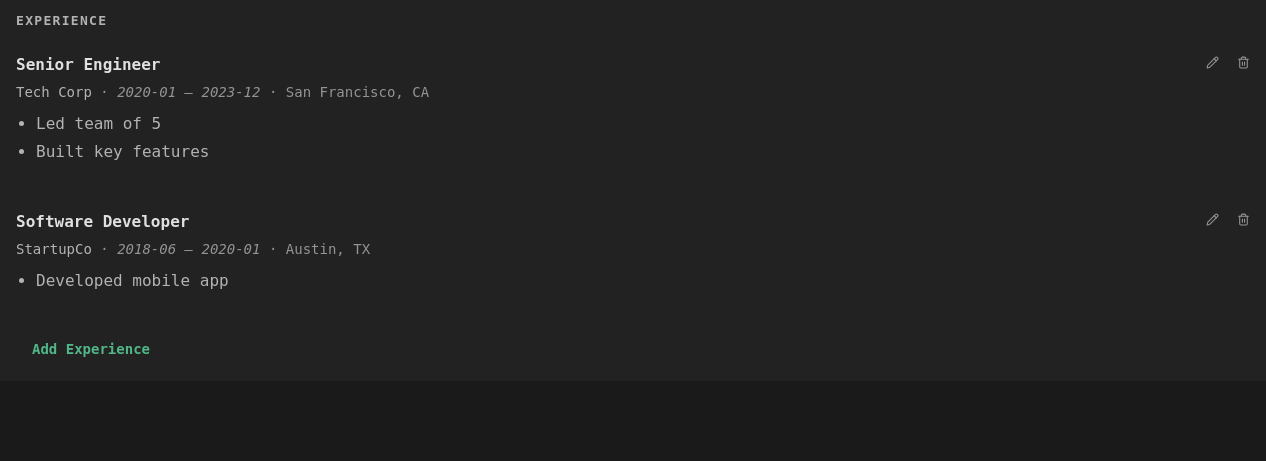
Test: ExperienceSection (edit/add/delete) › edit mode › shows entry form when edit button clicked
Click the button named "edit" in the row of "Senior Engineer": (1212, 62) [1200,52,1225,73]
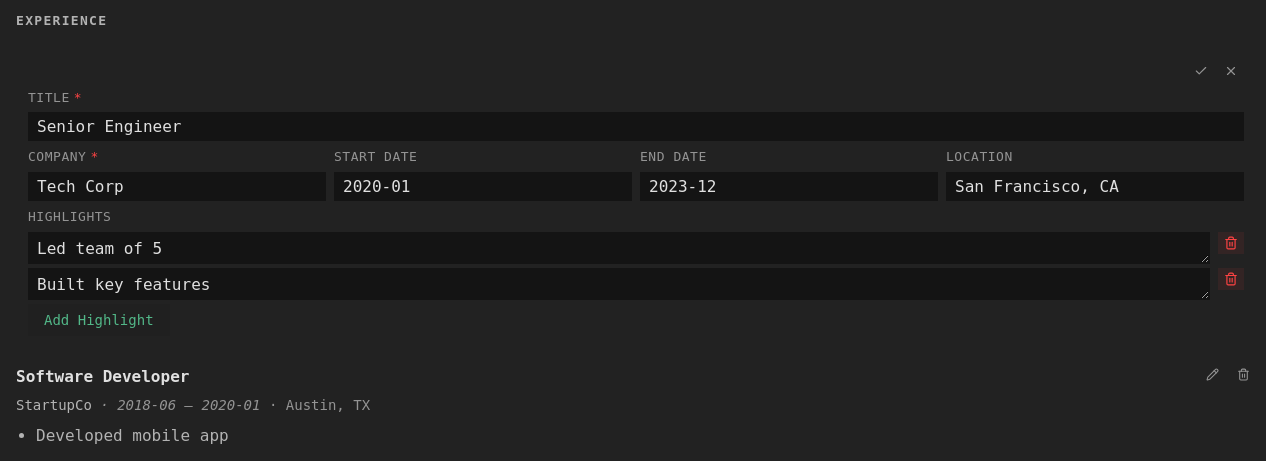
Result: the field labelled "Title*" is shown at [28,112,1244,141]
Result: the field labelled "Company*" is shown at [28,172,326,201]
